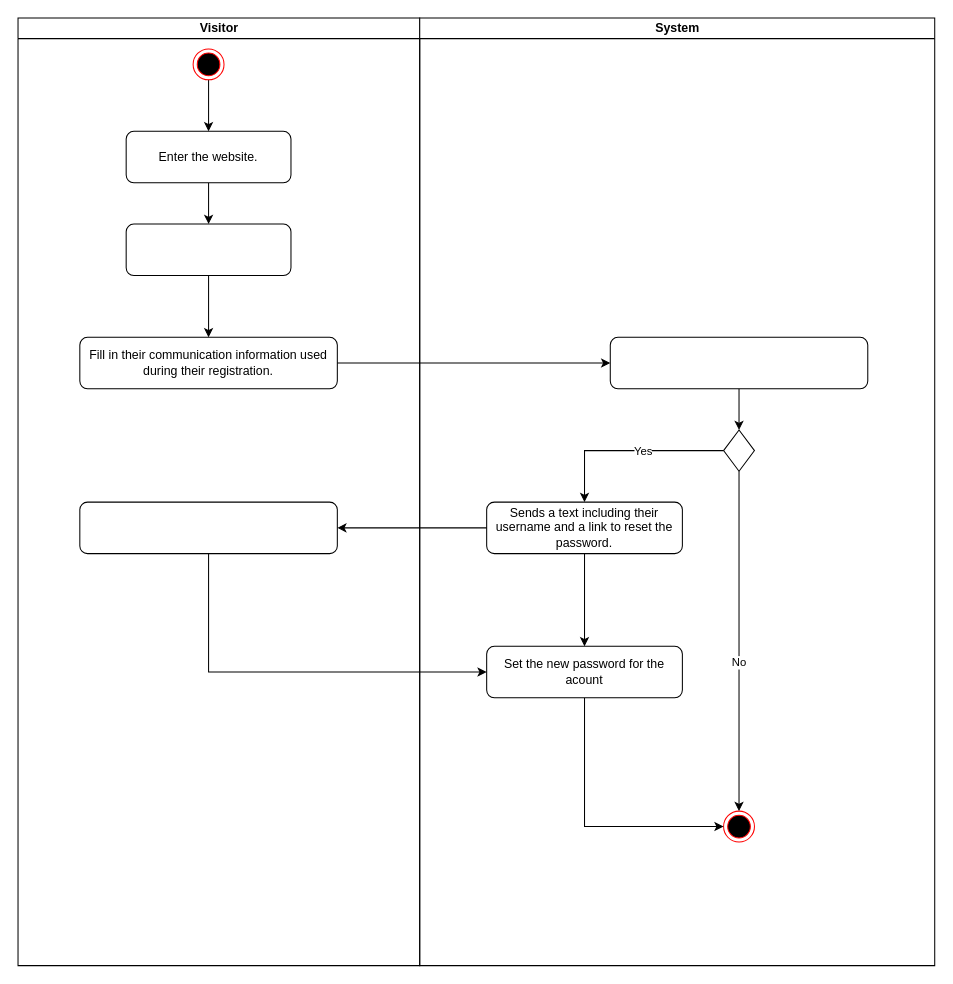
Image size: 953x984. Some labels were removed from this diagram. Each missing label, with the centre of its shape:
Check whether the account exist.: pixel 738 362
Click "Reset Password".: pixel 208 249
Click the link and enter a webpage to reset their password.: pixel 208 527
